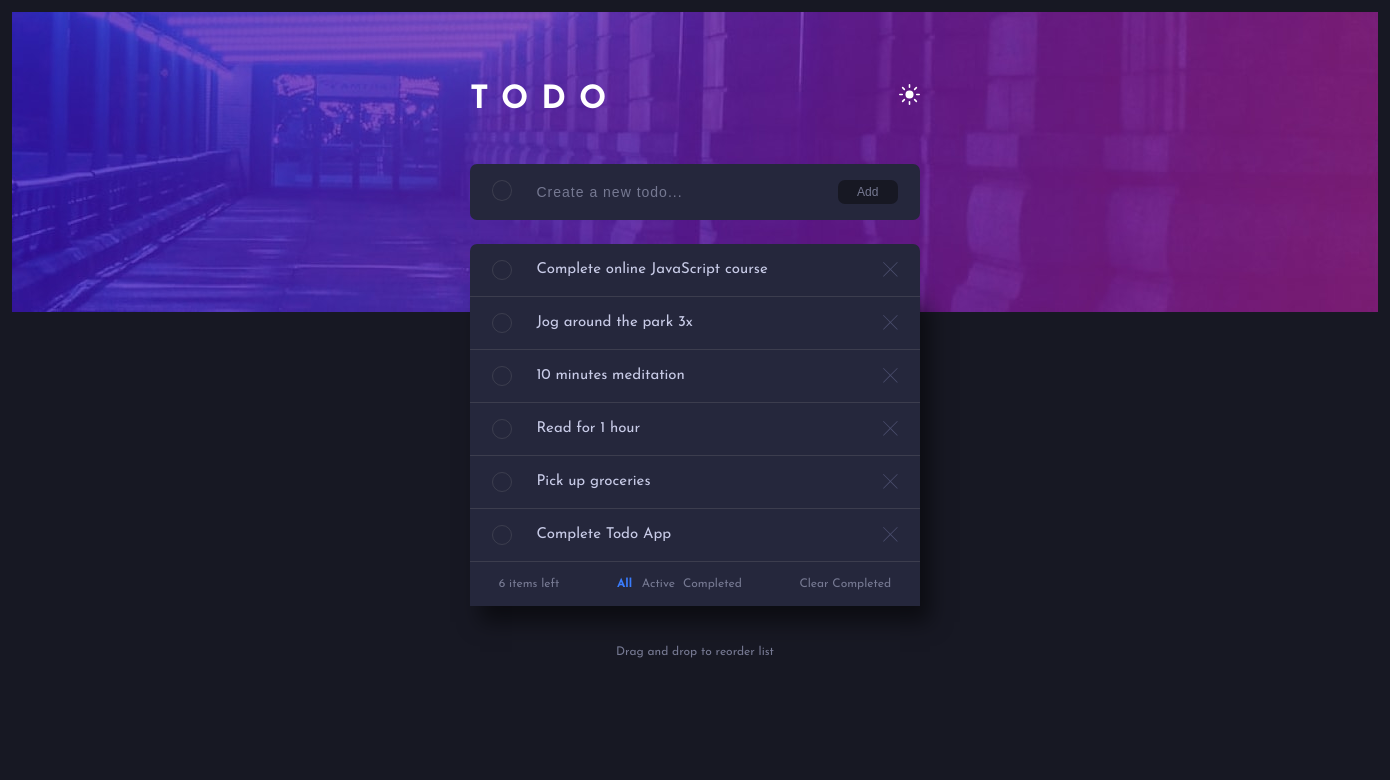
adding a todo item › the first letter of the first word of the todo item should be capitalized by default
Type "pick up mail" into the field with test id "create-new-todo".
click(688, 192); type("pick up mail")  # box [537,180,838,204]
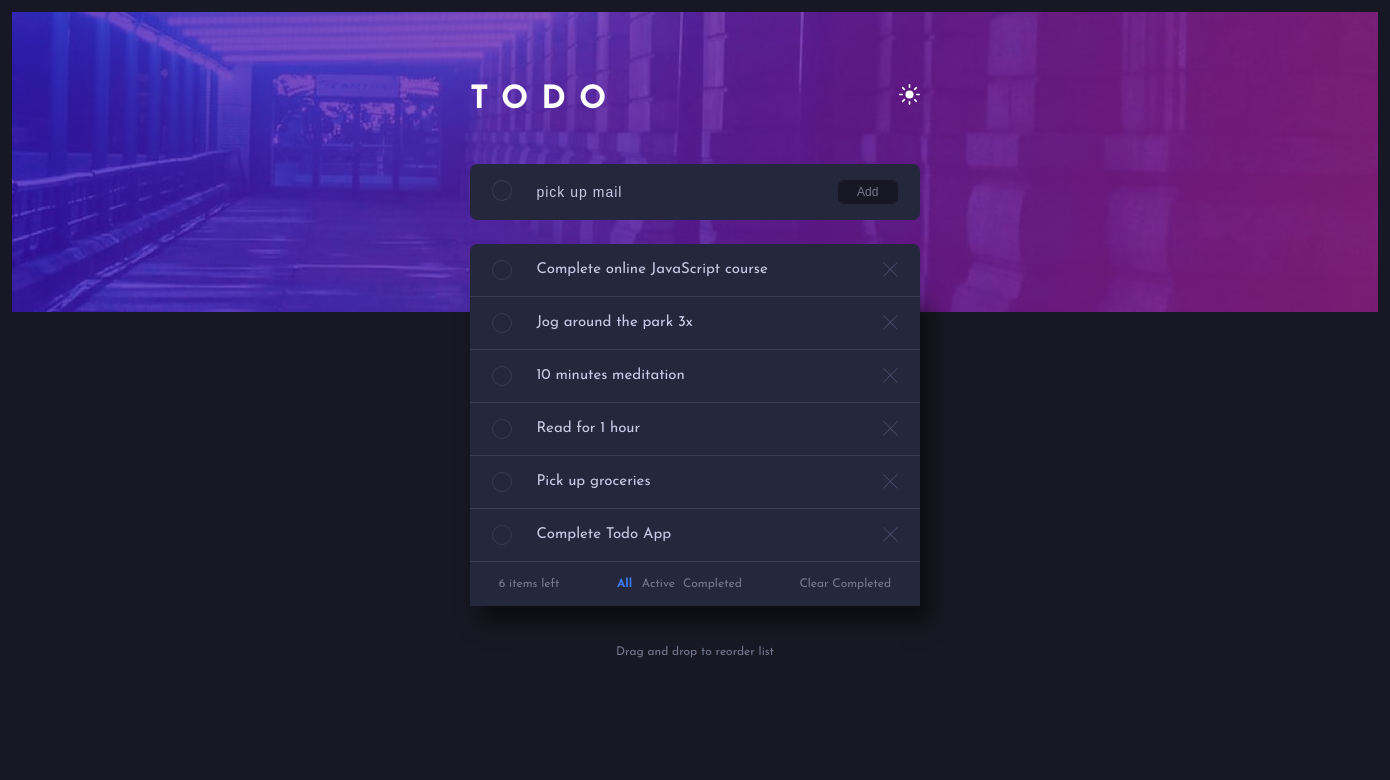
Click the button with test id "add-btn".
click(868, 192)  # box [838,180,898,204]
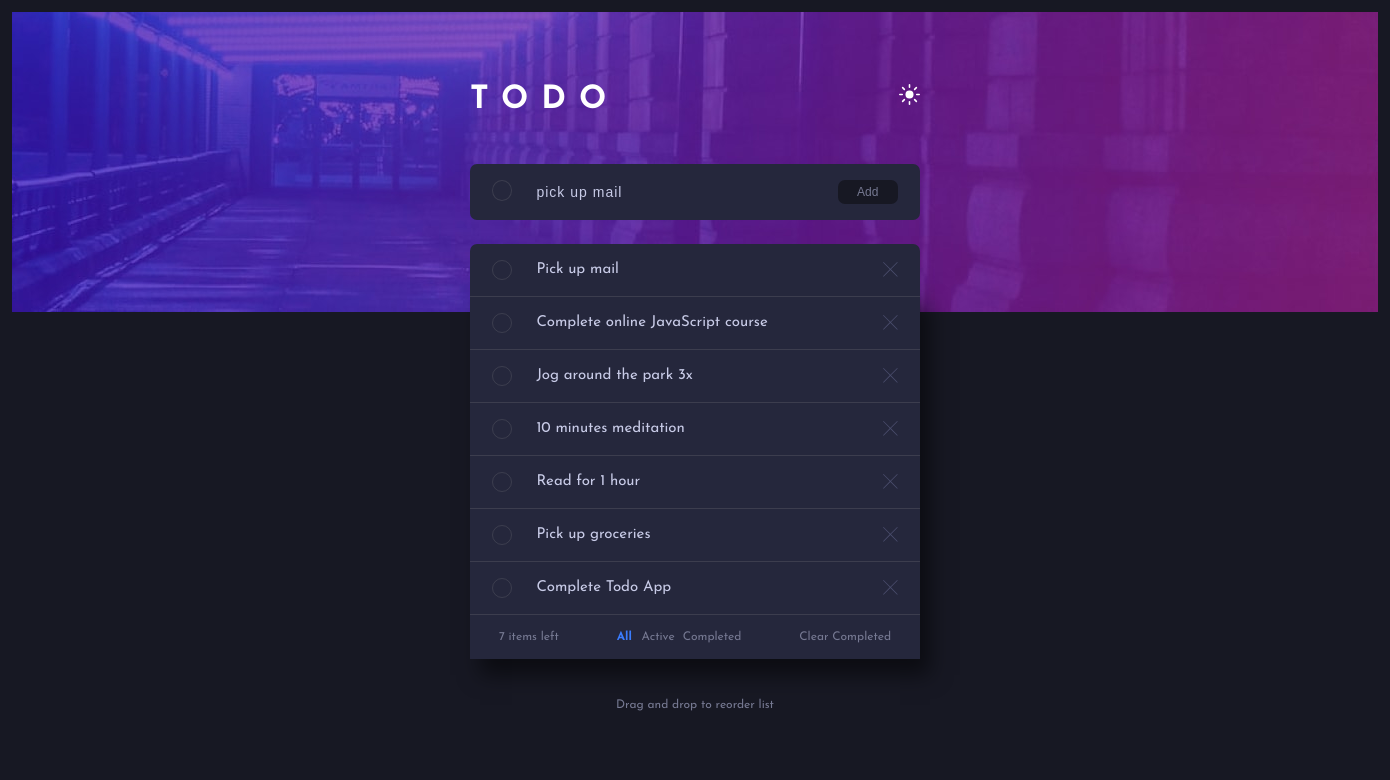
Check: the text with test id "todo-item" reads "Pick up mail", box [536,262,618,277]
